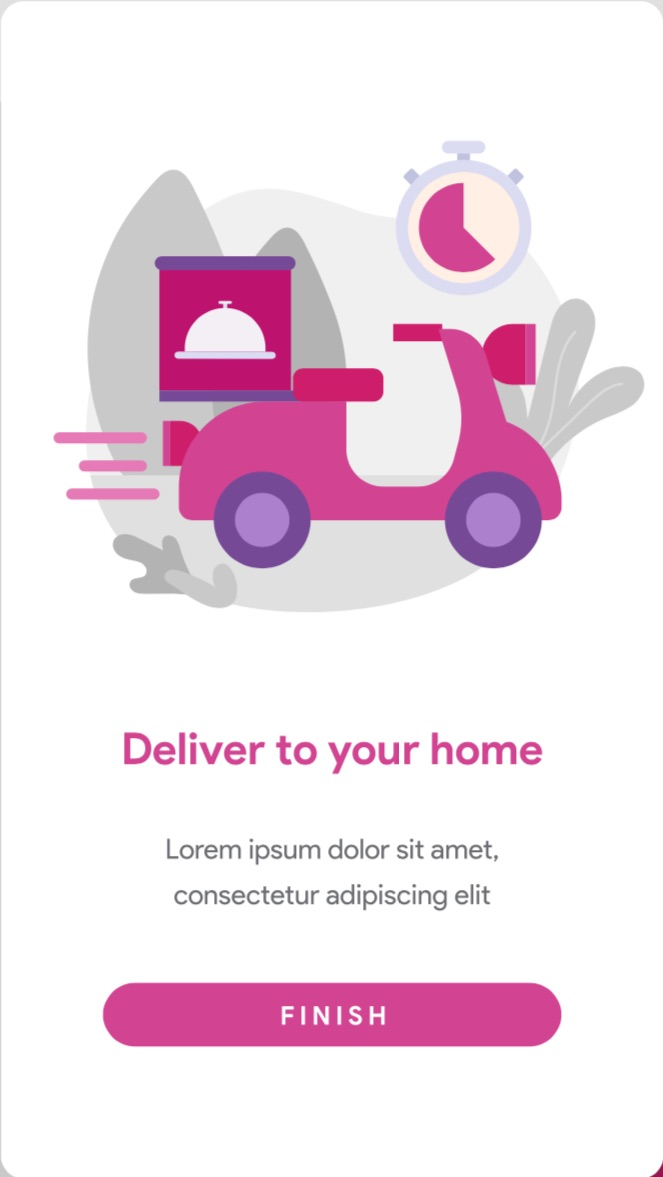Image: (53, 140, 646, 614)
Text: (166, 836, 499, 912), (124, 731, 544, 775)
TextButton: (103, 982, 563, 1048)
